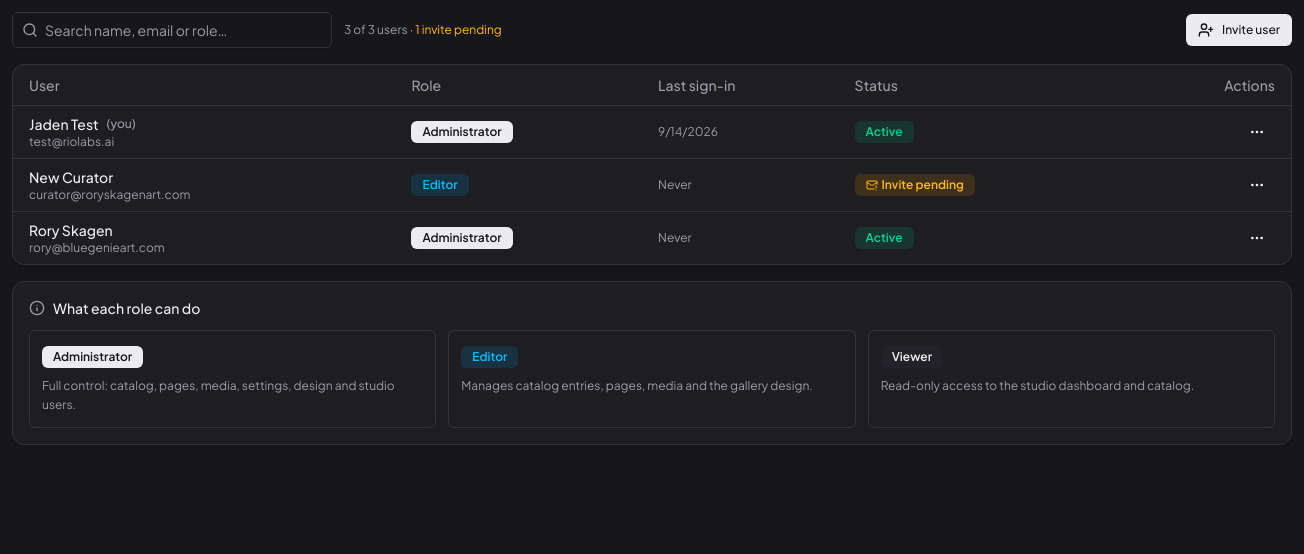
UsersAdminView › offers Resend invitation only for a pending invite
Expected: the text "curator@roryskagenart.com" is shown, [29,186,190,202]
Note: The pending invitee's row menu carries the resend action.
Click the button named "Actions for curator@roryskagenart.com" at [1257, 184], box [1239,166,1275,202]
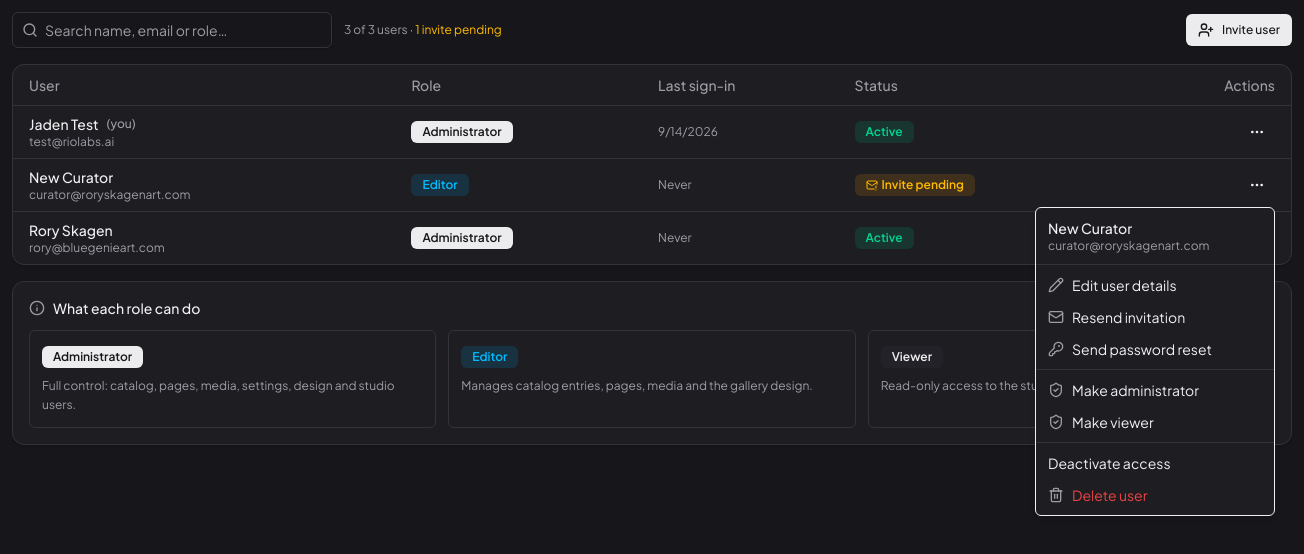
Expected: the menu item "Resend invitation" is shown, [1048,308,1185,326]
Expected: the menu item "Send password reset" is shown, [1048,340,1212,358]
Press Escape
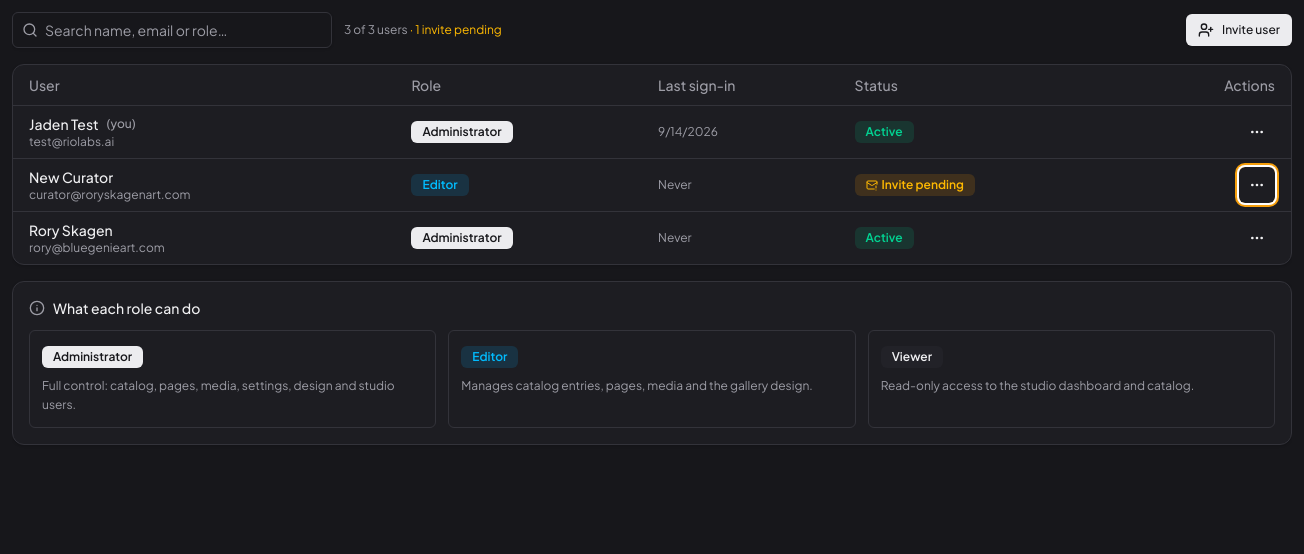
Note: A confirmed user's row menu does not.
Click the button named "Actions for rory@bluegenieart.com" at [1257, 238], box [1239,220,1275,256]
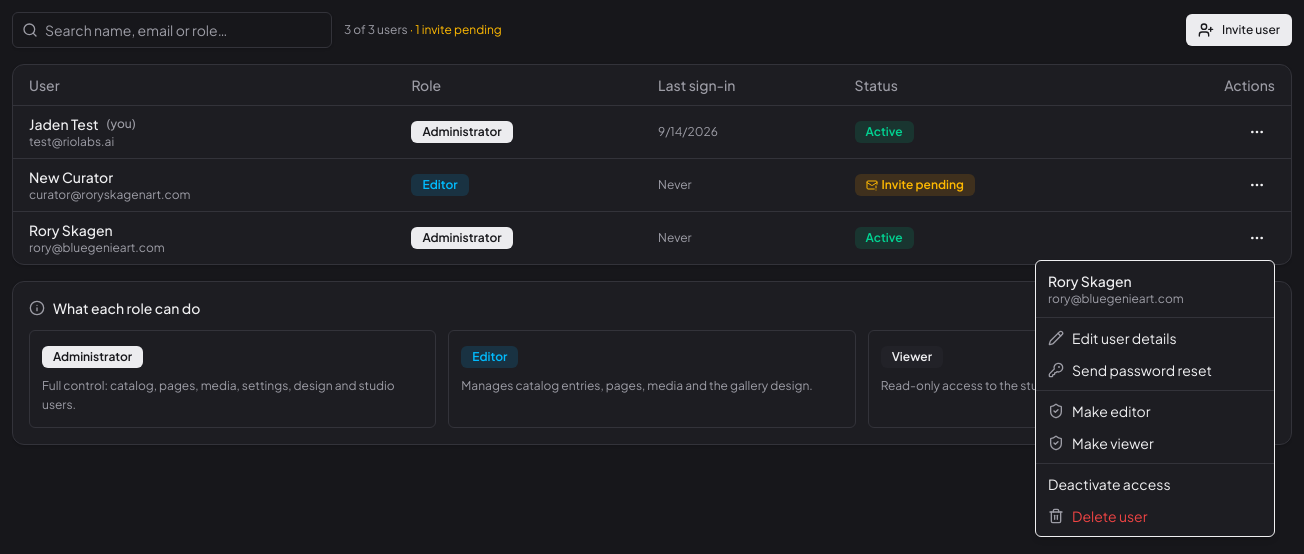
Expected: the menu item "Resend invitation" is not shown
Expected: the menu item "Send password reset" is shown, [1048,361,1212,379]
